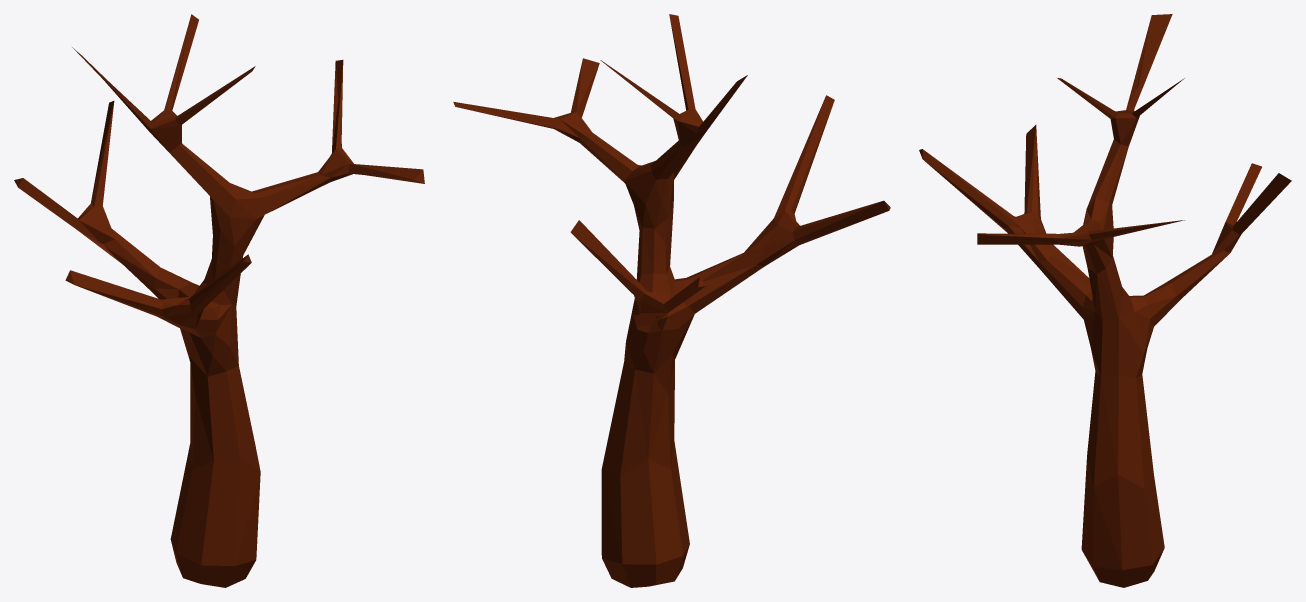
Rendered from DeadTree.fbx.
3 views of the same model, side by side, from view 1: azimuth 30°, elevation 25°; view 2: azimuth 150°, elevation 25°; view 3: azimuth 270°, elevation 25° (orthographic). The views are drawn at different scales.
Parts seen in each view (by area): view 1: Cube.004; view 2: Cube.004; view 3: Cube.004.
Boxes of the visible parts, x1,y1,x2,y2 form: Cube.004: (14, 14, 424, 587); Cube.004: (453, 14, 890, 587); Cube.004: (919, 14, 1291, 587).
Bounding box in the file's own units: 2339 × 3442 × 2263.
